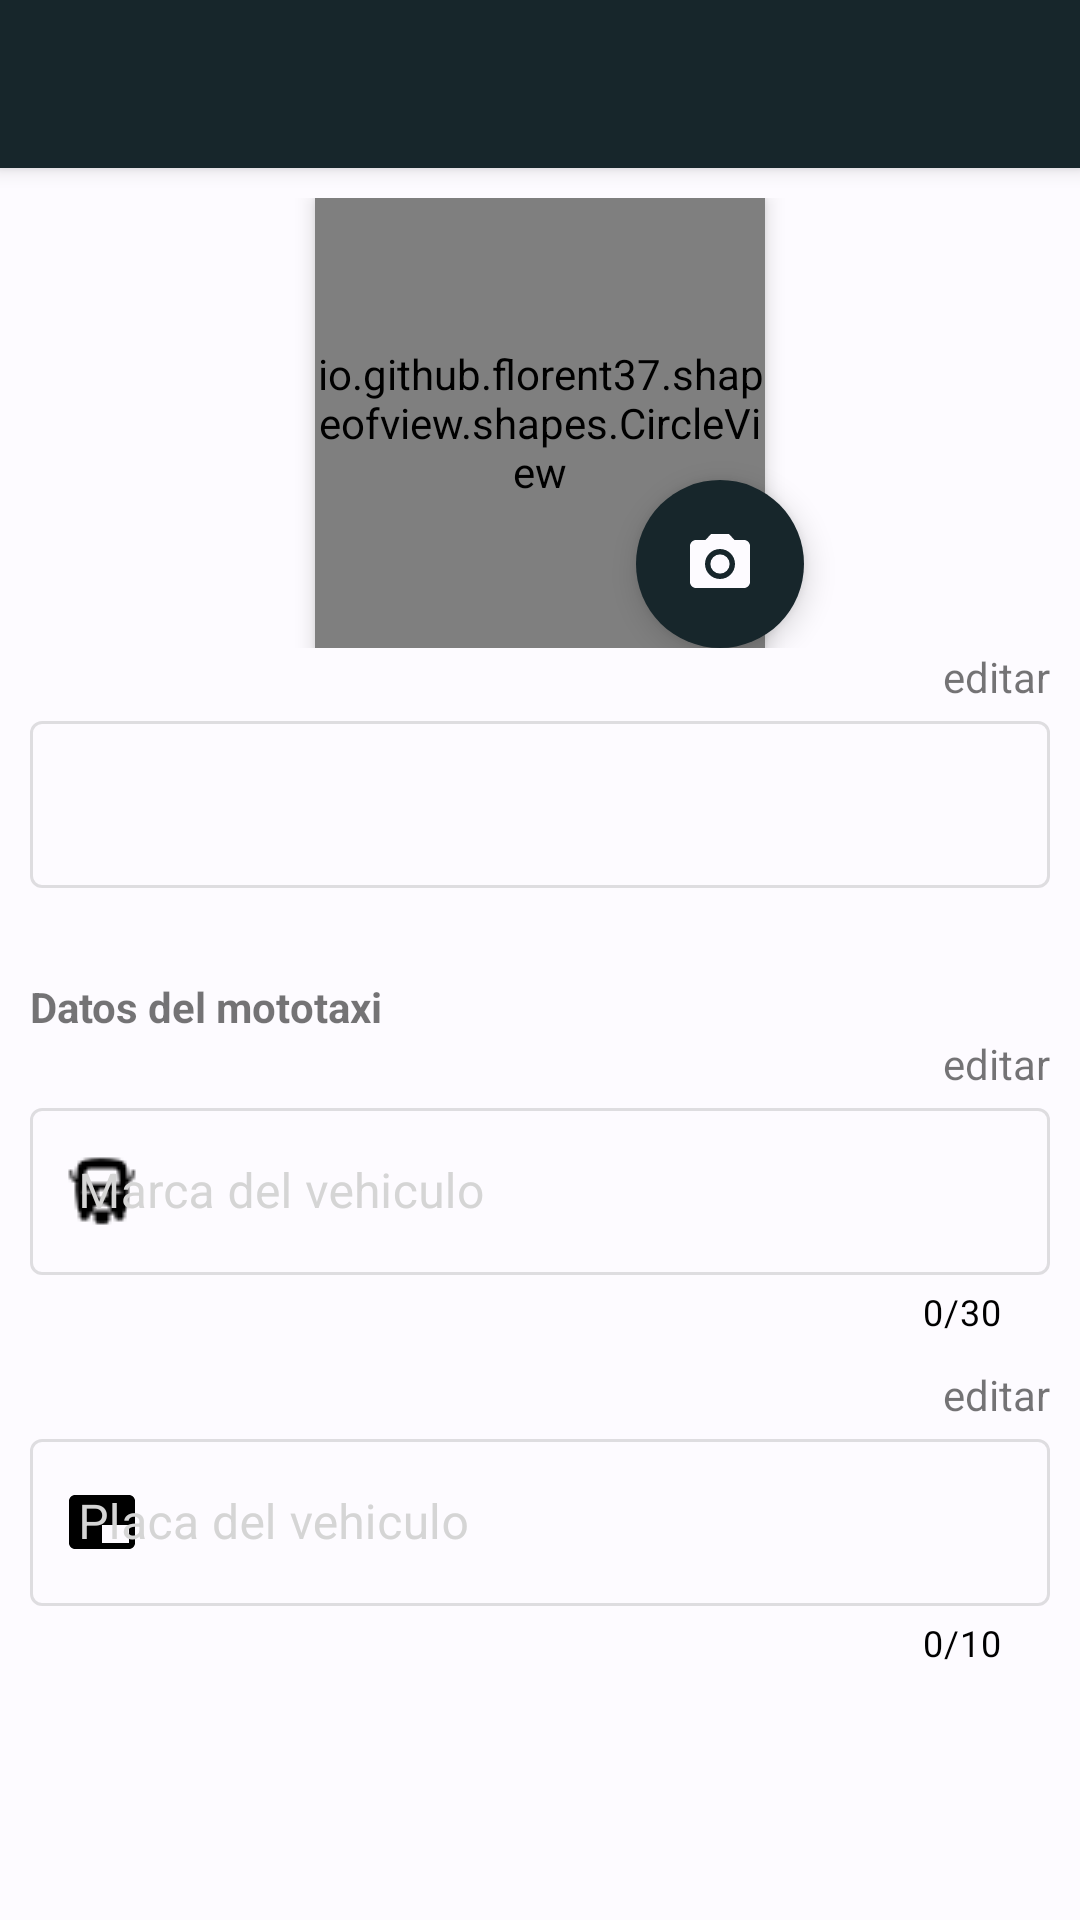

Icons on this 1080px x 1920px Android screen, each with the point to tap as [x,y]:
Camera icon: [720,564]
